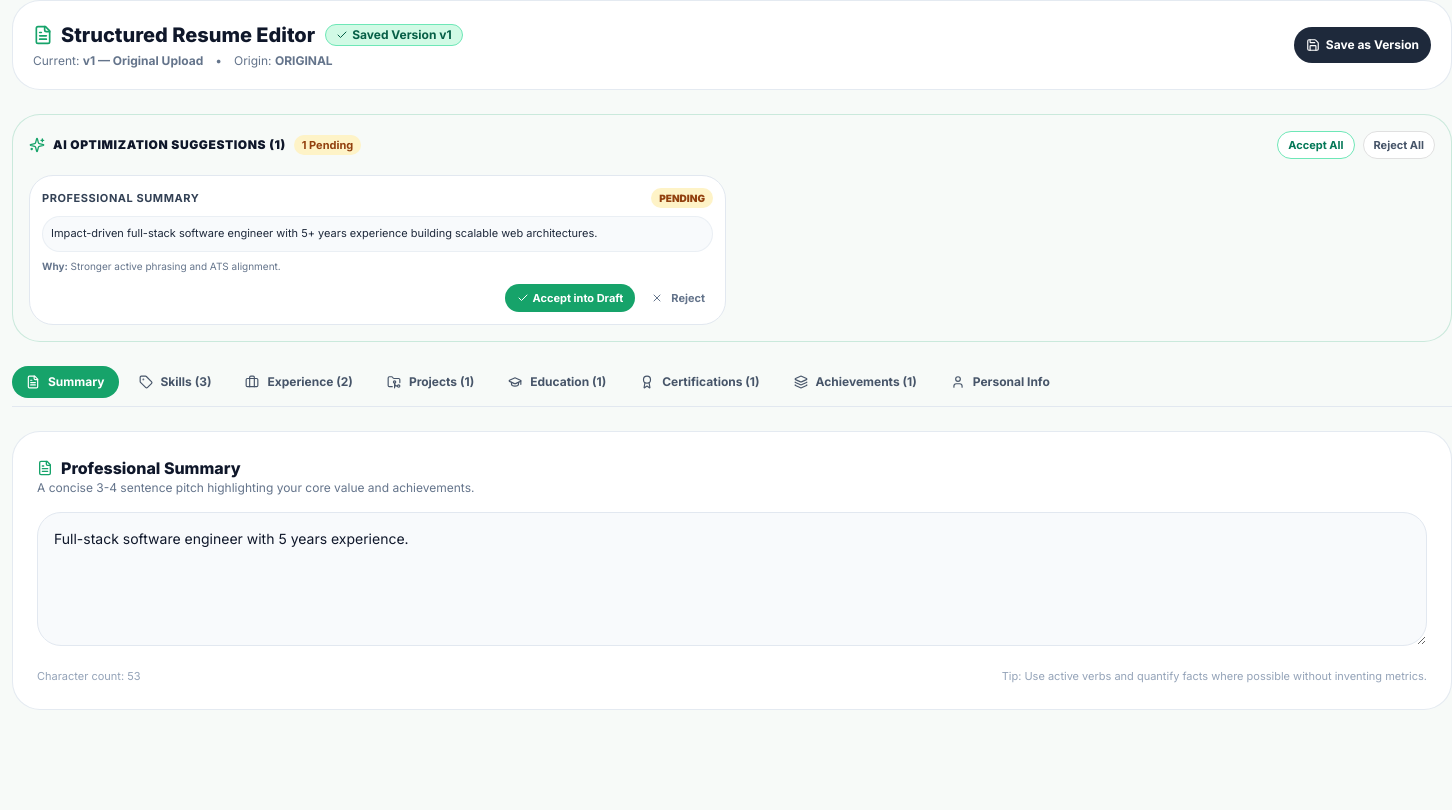
Test case: ResumeEditor › accepts an AI suggestion into the draft and marks it accepted
Expected: the heading "AI Optimization Suggestions (1)" is shown, left=53, top=137, right=286, bottom=153
Expected: the text "1 Pending" is shown, left=294, top=135, right=361, bottom=155
Note: Click "Accept into Draft"
Step 1. Click the button "Accept into Draft" → [570, 298], box left=504, top=284, right=635, bottom=312
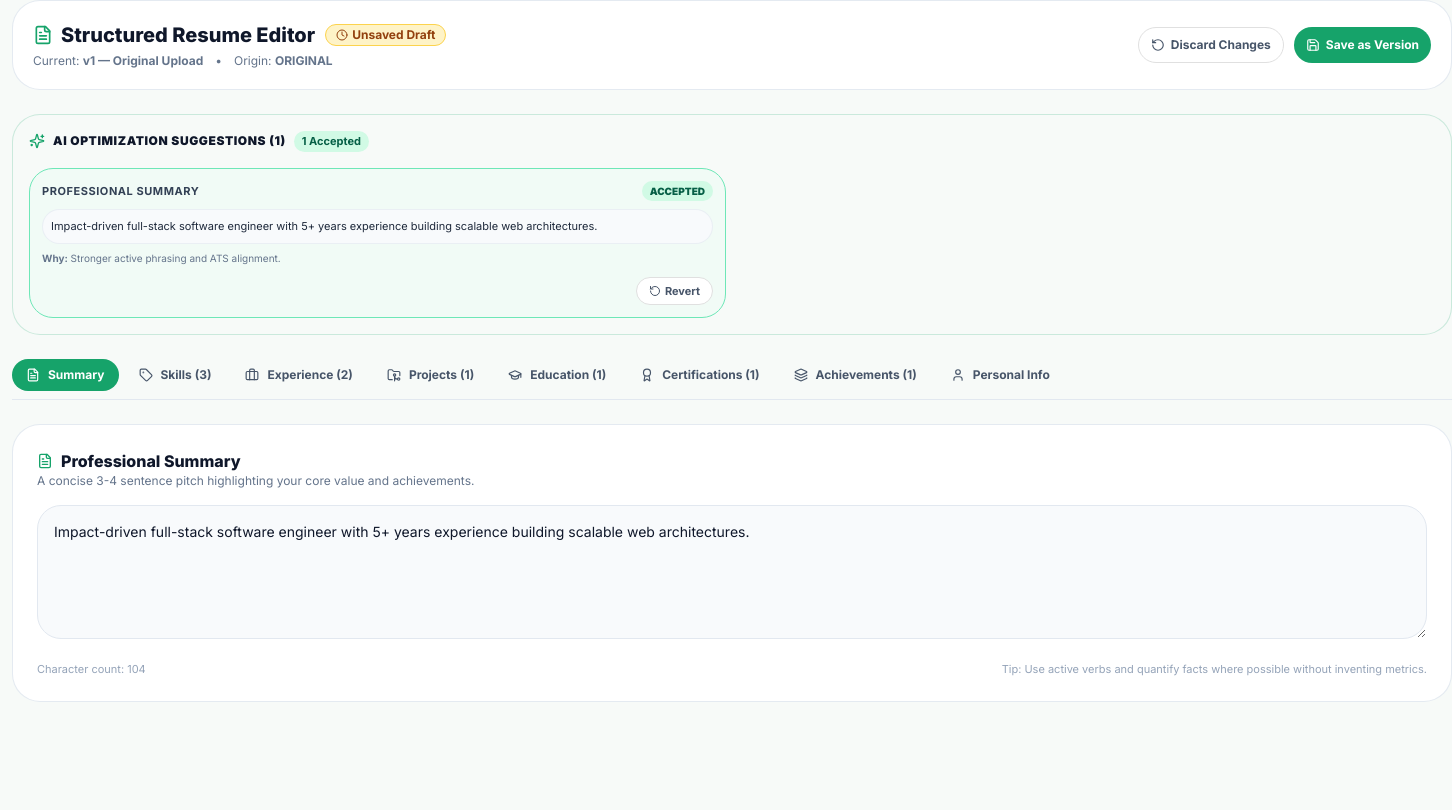
Expected: the text box with placeholder "Write your professional summary..." holds "Impact-driven full-stack software engineer with 5+ years experience building scalable web architectures.", left=37, top=505, right=1427, bottom=639
Expected: the text "Unsaved Draft" is shown, left=325, top=24, right=446, bottom=46
